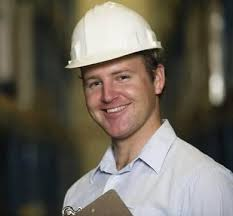Person_wearing_helmet: (59, 1, 160, 101)
